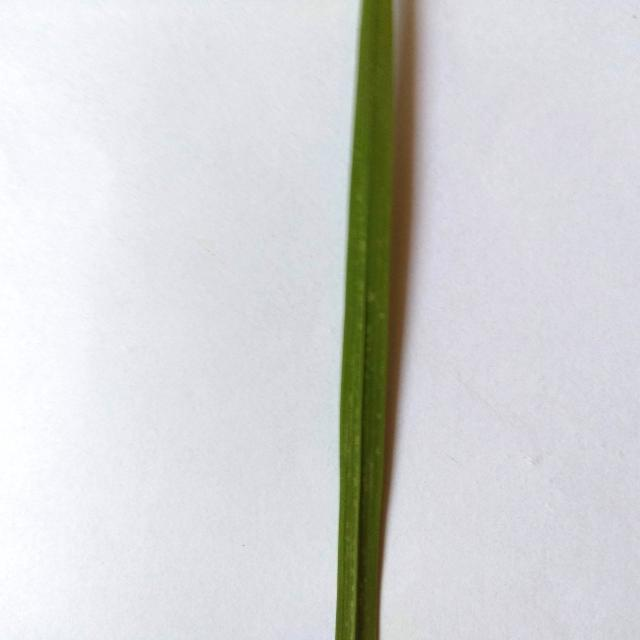Rice_Healthy: (336, 0, 397, 640)
